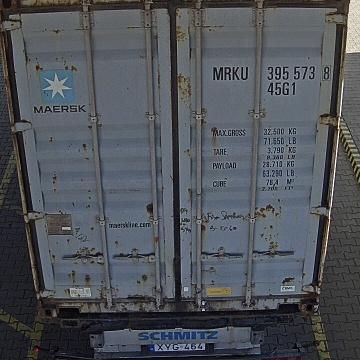serial_id: (213, 65, 331, 80)
